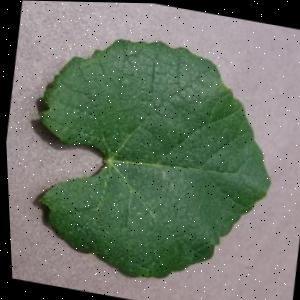Folha: (10, 19, 294, 299)
